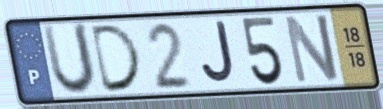2: (144, 20, 193, 92)
5: (238, 14, 285, 88)
D: (89, 22, 146, 95)
J: (199, 19, 238, 87)
N: (282, 11, 342, 87)
U: (39, 21, 99, 98)
